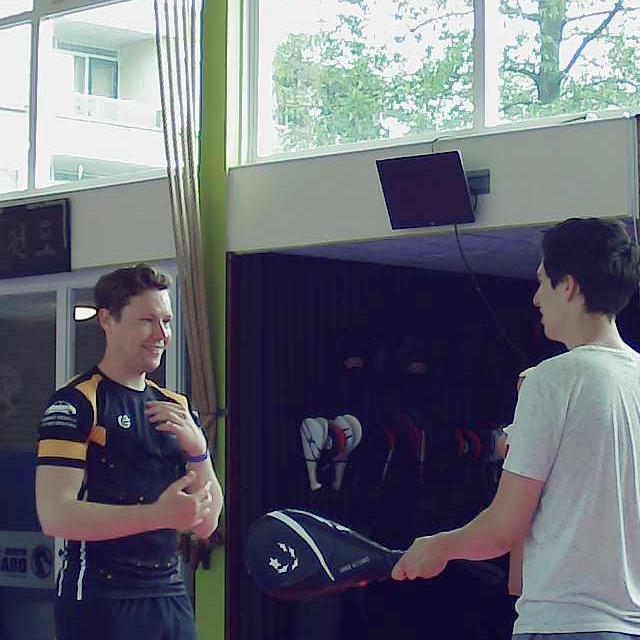paddle: (239, 508, 415, 604)
